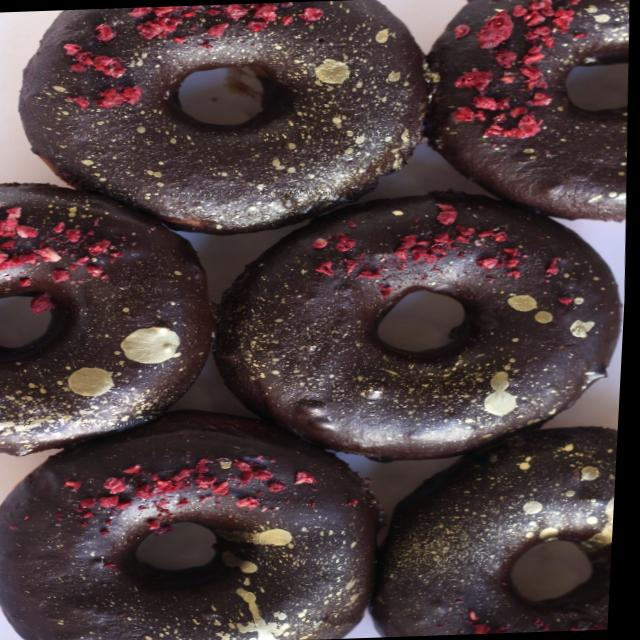donut: (215, 188, 632, 461), (2, 0, 440, 238), (0, 421, 386, 640), (0, 175, 220, 457), (363, 415, 623, 637), (417, 0, 636, 227)
